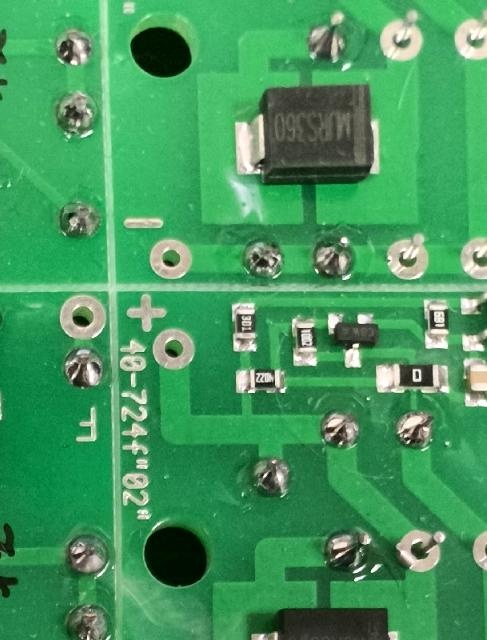chip-capacitor: (462, 354, 487, 407)
chip-resistor: (375, 361, 453, 394), (290, 313, 321, 369), (423, 296, 450, 352), (231, 300, 259, 353), (235, 367, 287, 395)
diode: (233, 82, 383, 186)
transistor: (324, 310, 381, 371)
